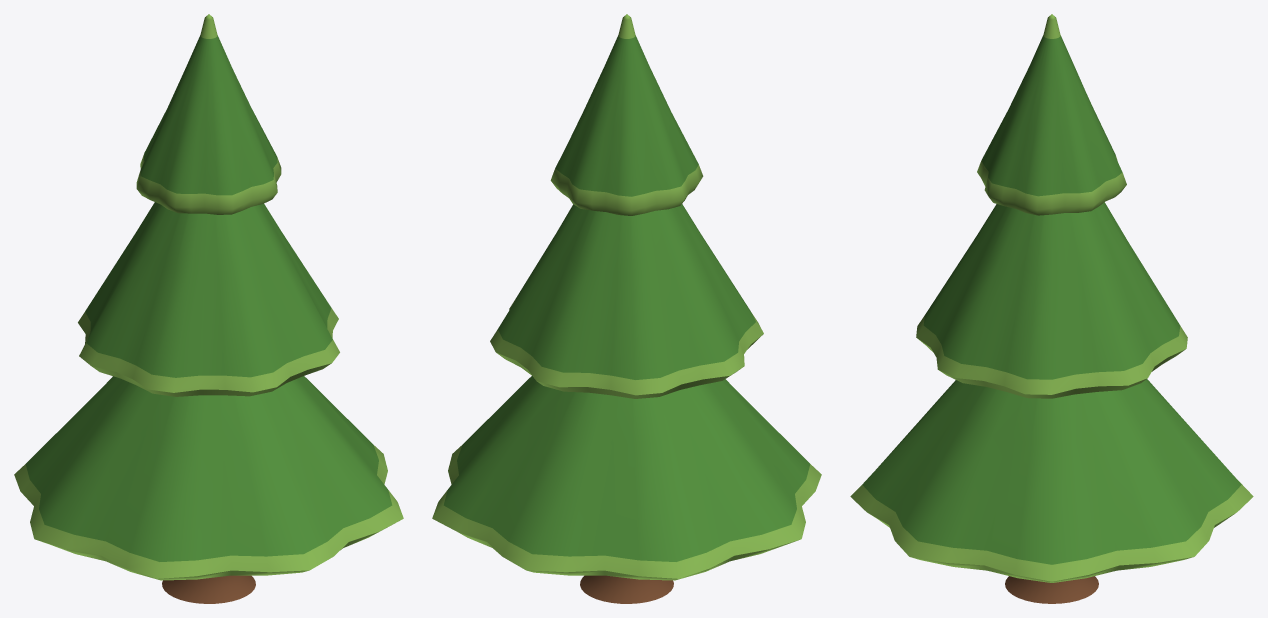
File: PineTree_08.glb
3 views of the same model, side by side, from view 1: azimuth 30°, elevation 25°; view 2: azimuth 150°, elevation 25°; view 3: azimuth 270°, elevation 25° (orthographic).
Visible parts, largest first — view 1: PineTree_08; view 2: PineTree_08; view 3: PineTree_08.
Boxes of the visible parts, x1=… form: PineTree_08: x1=14, y1=14, x2=403, y2=603; PineTree_08: x1=432, y1=14, x2=821, y2=603; PineTree_08: x1=850, y1=14, x2=1253, y2=603.
Size of the model in its own units: 5.51 by 8.6 by 5.51.
